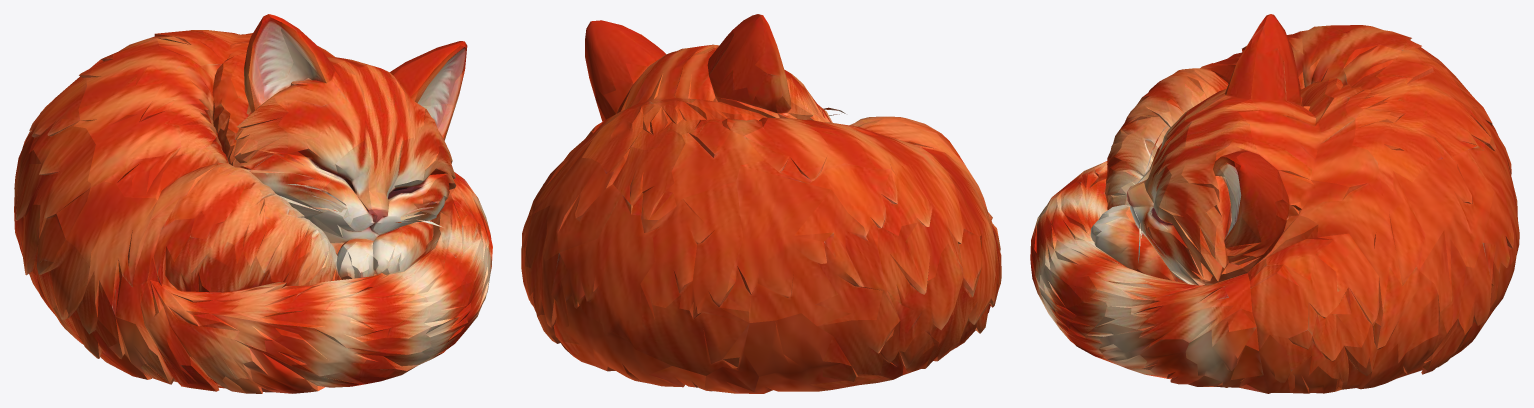
File: cat.glb
The picture shows the model from 3 angles, left to right: view 1: azimuth 30°, elevation 25°; view 2: azimuth 150°, elevation 25°; view 3: azimuth 270°, elevation 25°; orthographic projection.
Size of the model in its own units: 0.4457 by 0.3 by 0.4499.
1 material, 1 textured.
